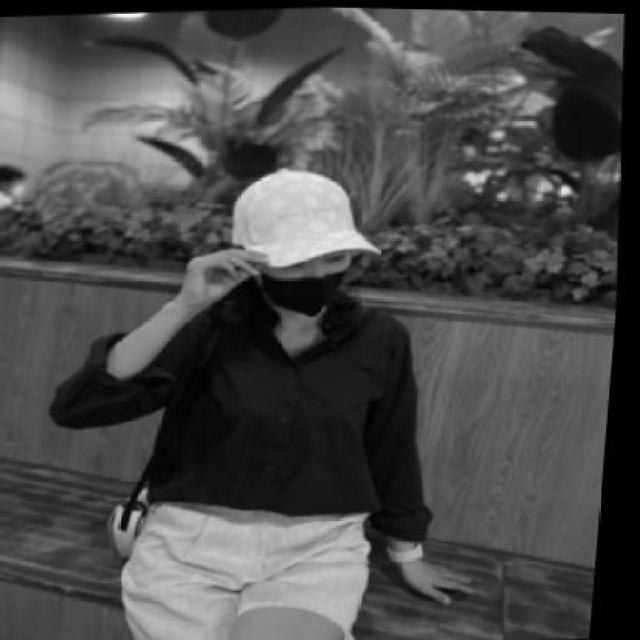hat: (217, 154, 391, 281)
